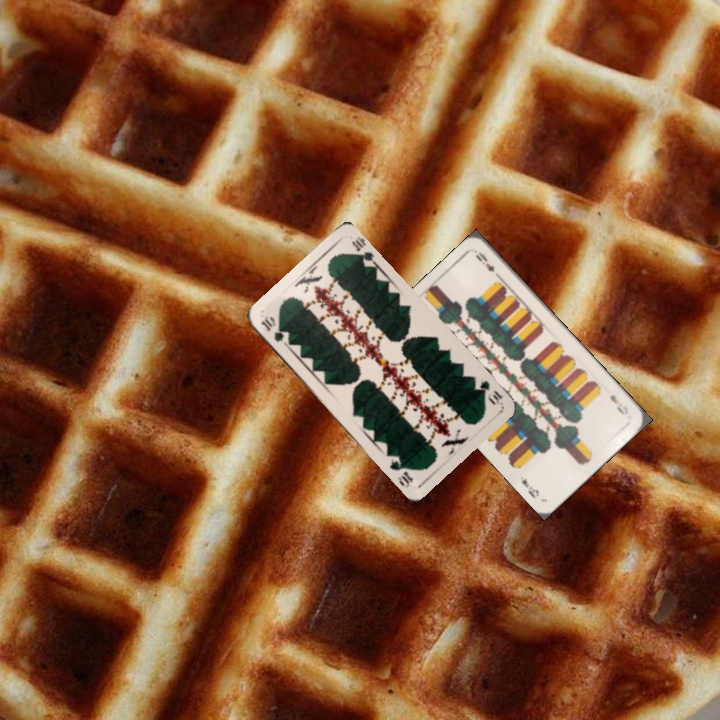E9: (605, 390, 631, 418)
G10: (256, 312, 291, 348), (475, 376, 505, 407)
